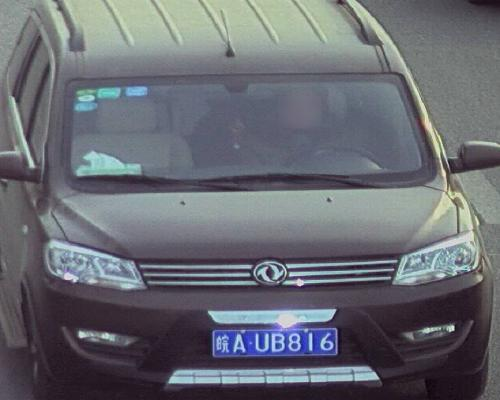Carplate: (198, 319, 345, 361)
